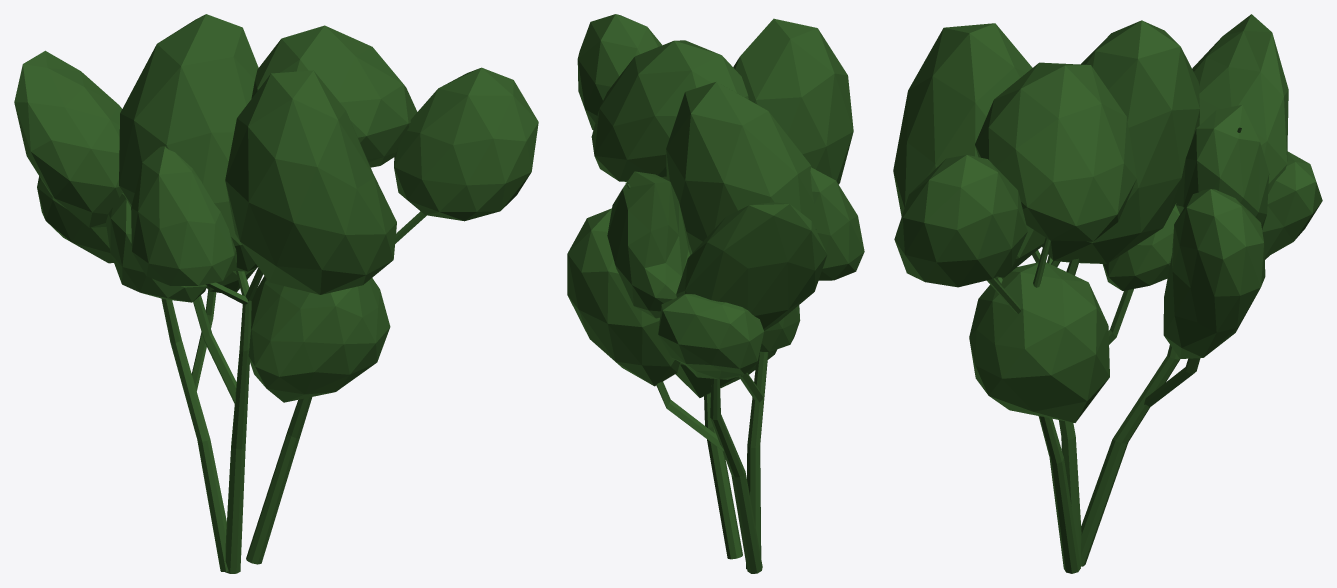
Rendered from Birch3.FBX.
The picture shows the model from 3 angles, left to right: view 1: azimuth 30°, elevation 25°; view 2: azimuth 150°, elevation 25°; view 3: azimuth 270°, elevation 25°; orthographic projection. The views are drawn at different scales.
Visible parts, largest first — view 1: Birch3; view 2: Birch3; view 3: Birch3.
Part boxes in pixels (left/top/right/bottom): Birch3: left=14, top=14, right=538, bottom=573; Birch3: left=567, top=14, right=864, bottom=573; Birch3: left=893, top=14, right=1322, bottom=573.
Size of what is drawn, in the model's own units: 513 by 490 by 690.
